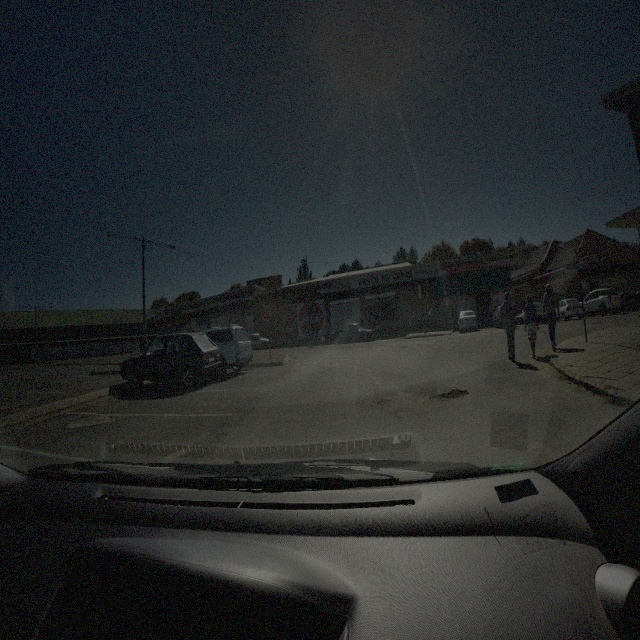pothole: (428, 384, 469, 404), (374, 392, 393, 407)
